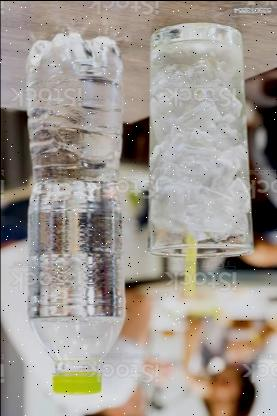Plastic Bottle: (25, 32, 124, 394)
